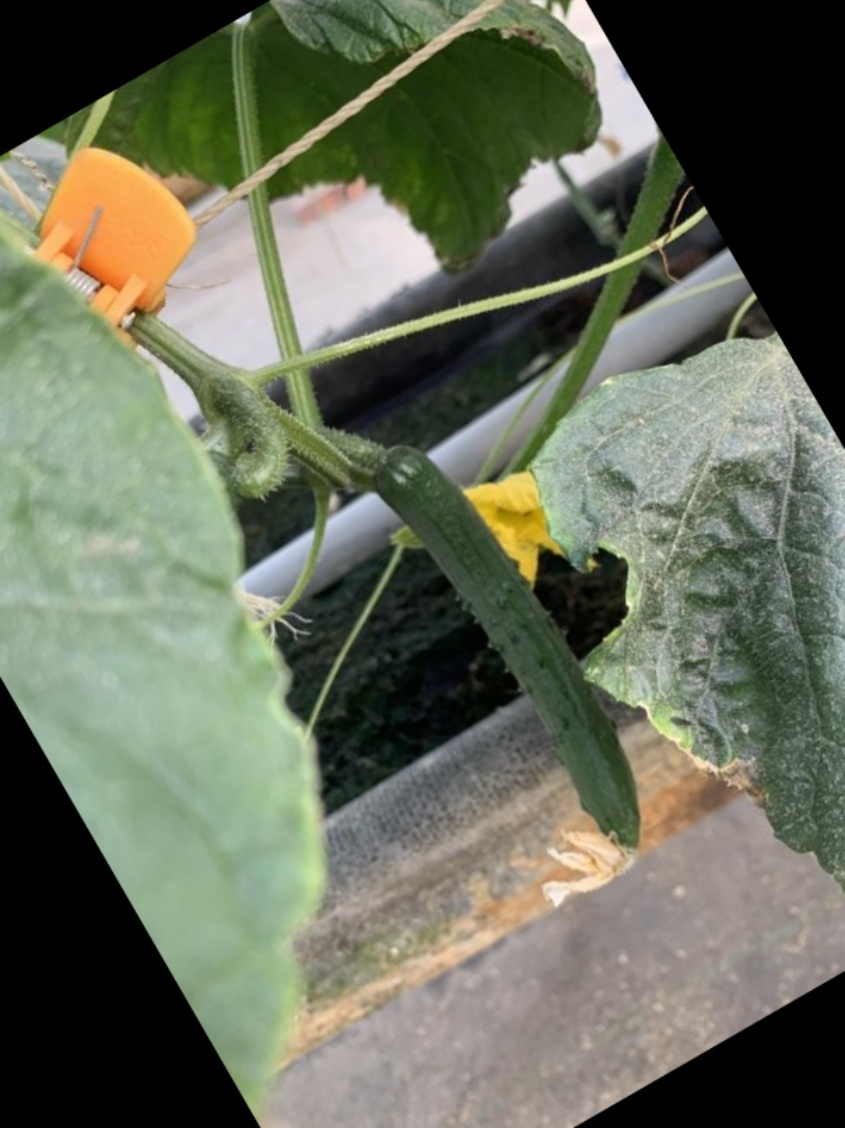mature: (377, 447, 657, 864)
